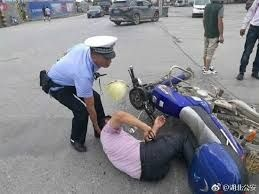falling: (97, 101, 207, 189)
